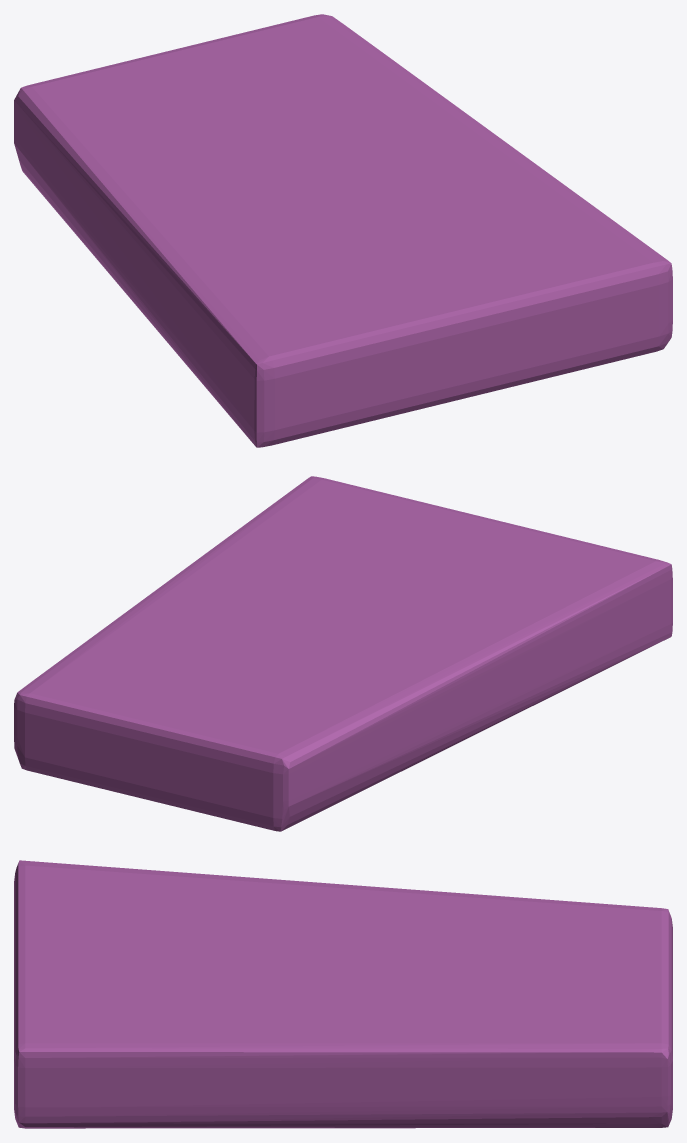
Rendered from right_hip_pitch_link_part_7.obj.
The picture shows the model from 3 angles, top to bottom: view 1: azimuth 30°, elevation 25°; view 2: azimuth 150°, elevation 25°; view 3: azimuth 270°, elevation 25°; orthographic projection. The views are drawn at different scales.
Bounding box in the file's own units: 0.0895 × 0.0179 × 0.129.
